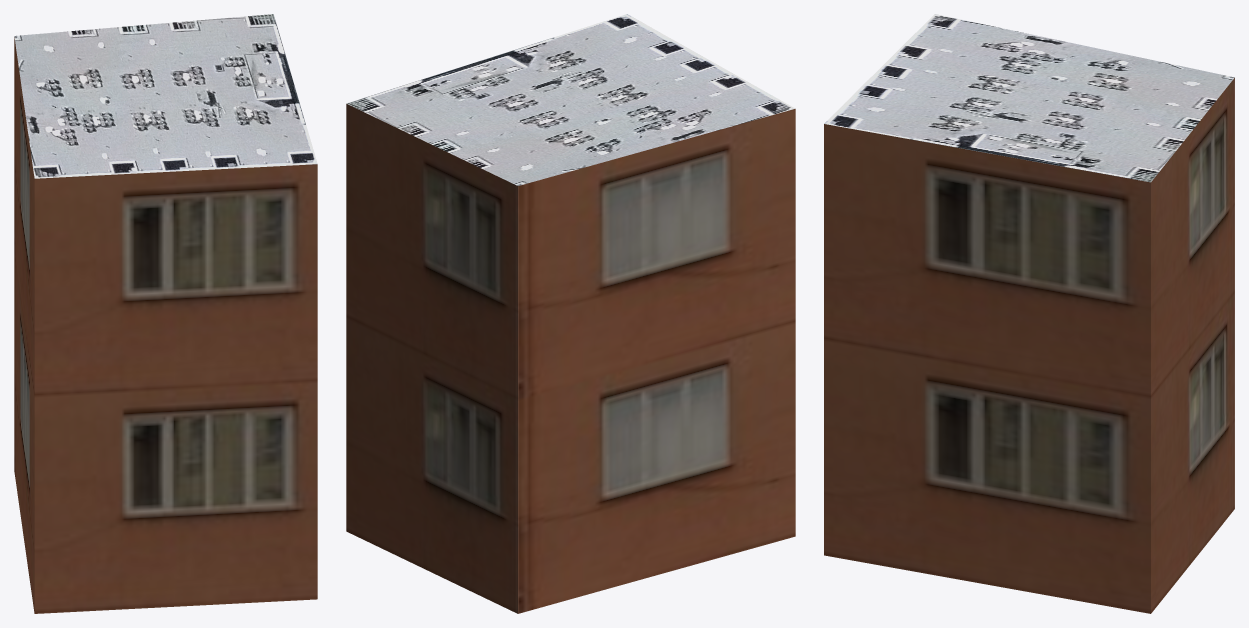
File: ResTex__2668.fbx
3 renders of one model, left to right at view 1: azimuth 30°, elevation 25°; view 2: azimuth 150°, elevation 25°; view 3: azimuth 270°, elevation 25°, orthographic.
Parts seen in each view (by area): view 1: CityEngineMaterial_20_m, CityEngineMaterial_8_m; view 2: CityEngineMaterial_20_m, CityEngineMaterial_8_m; view 3: CityEngineMaterial_20_m, CityEngineMaterial_8_m.
Boxes of the visible parts, x1,y1,x2,y2 form: CityEngineMaterial_20_m: (14,37,317,613); CityEngineMaterial_8_m: (14,14,317,178); CityEngineMaterial_20_m: (346,104,795,613); CityEngineMaterial_8_m: (346,14,795,185); CityEngineMaterial_20_m: (824,78,1234,613); CityEngineMaterial_8_m: (824,14,1234,182).
Size of the model in its own units: 5.02 by 6 by 5.18.
2 materials, 2 textured.
